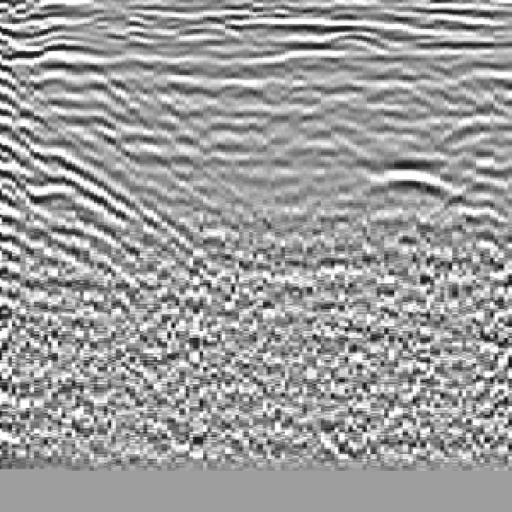metalic: (331, 138, 510, 235)
nonmetalic: (1, 35, 124, 277)
